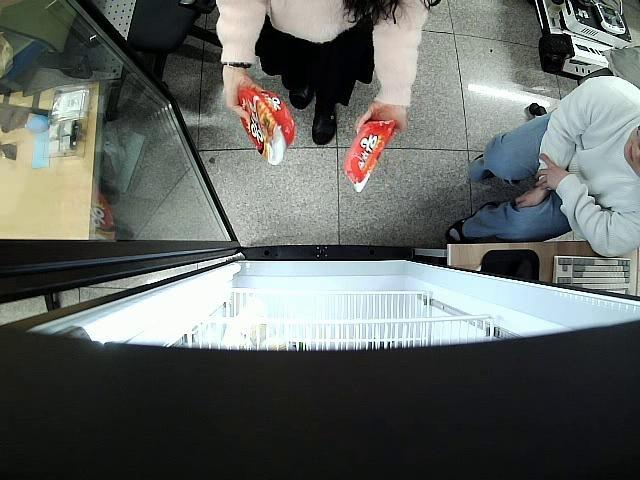10_wangTtukkeong: (237, 84, 297, 165), (342, 118, 396, 192)
